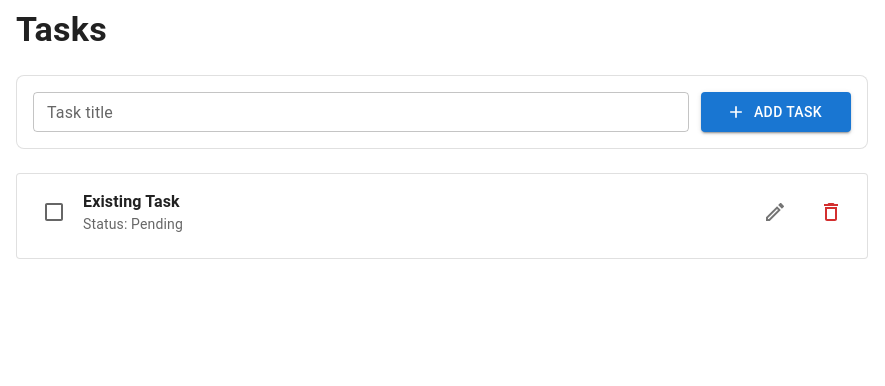
Scenario: TasksPage › creates a new task and prepends it to the list
expect the text "Existing Task" is shown: met, box top-left (83, 190), bottom-right (183, 214)
In the field labelled "Task title": point(361, 112) top-left (33, 92), bottom-right (689, 132), type "New Task"
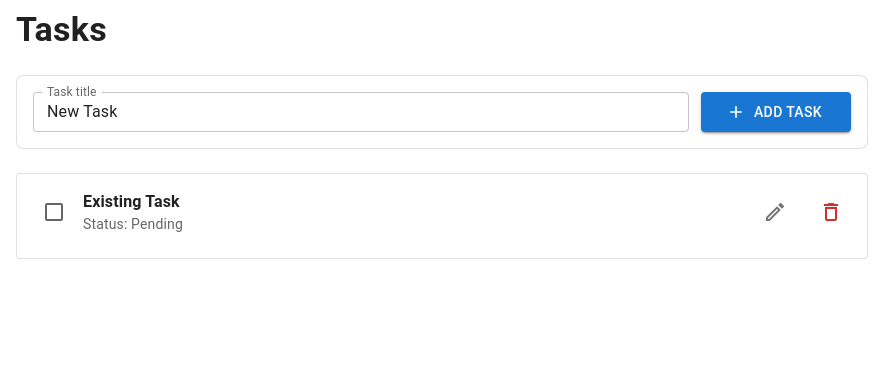
Click the button "Add Task": point(776, 112) top-left (701, 92), bottom-right (851, 132)
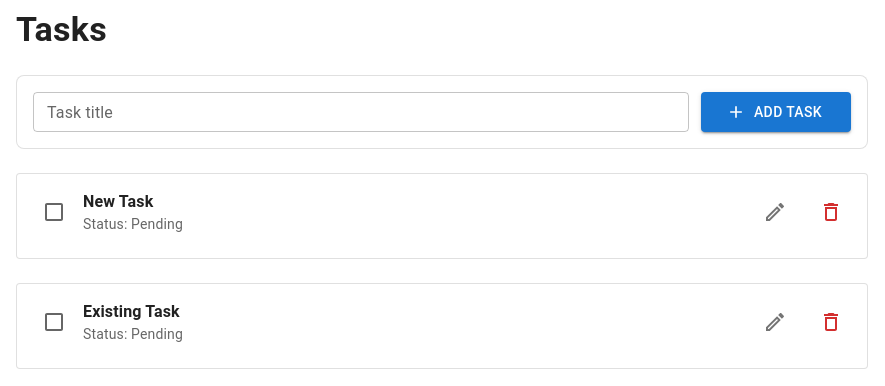
expect the text "New Task" is shown: met, box top-left (83, 192), bottom-right (153, 211)
